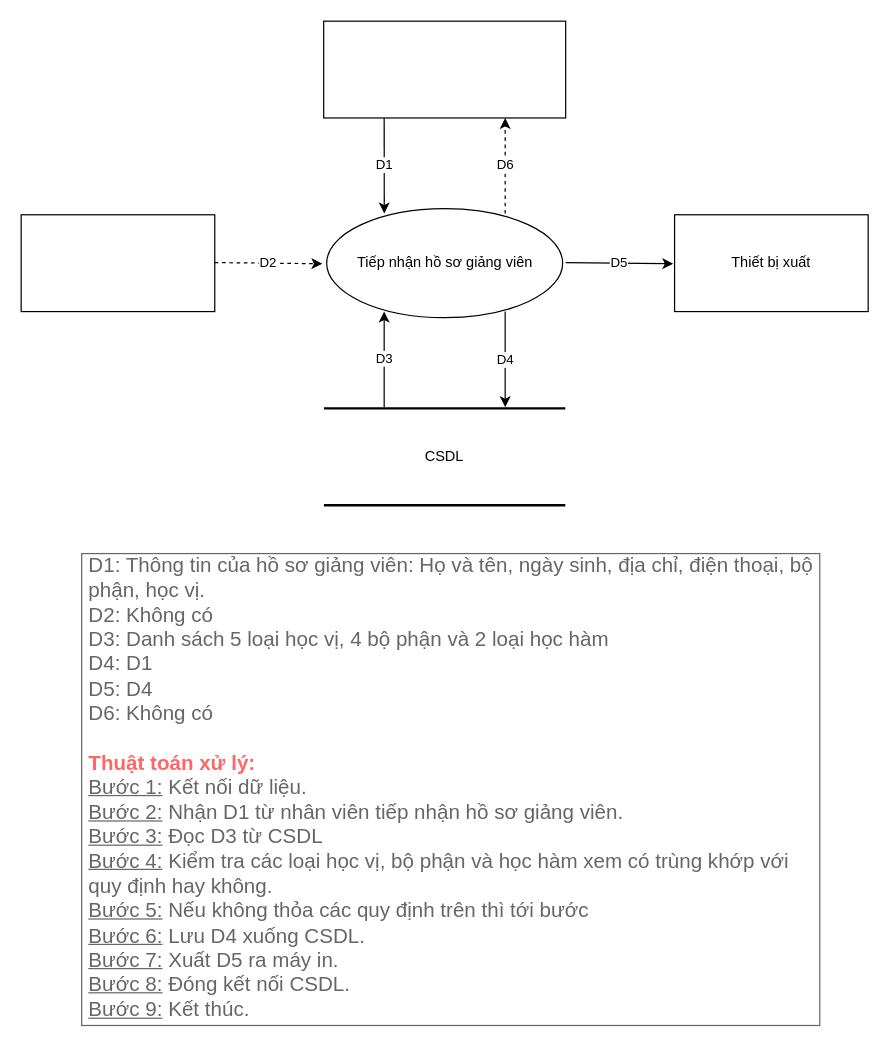
Image size: 889x1047. Some labels were removed from this diagram. Each missing label, with the box of its shape:
Nhân viên tiếp nhận hồ sơ: (322, 20, 566, 118)
Thiết bị nhập: (20, 214, 215, 312)
